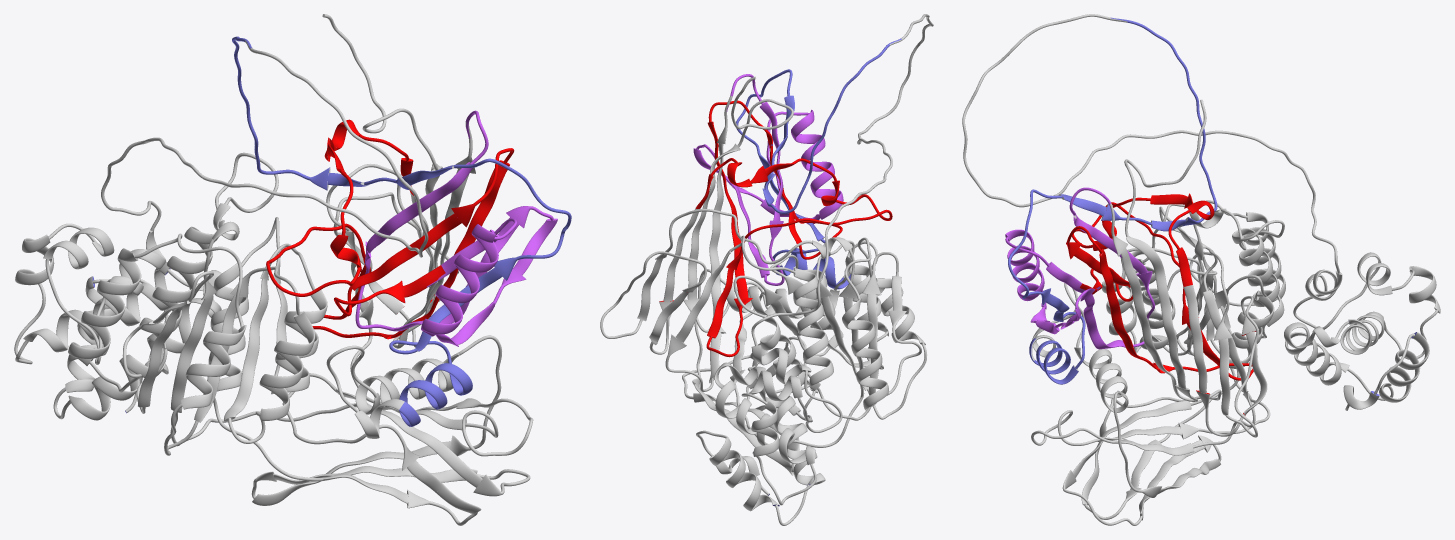
The model's file is protein63D.gltf.
The picture shows the model from 3 angles, left to right: view 1: azimuth 30°, elevation 25°; view 2: azimuth 150°, elevation 25°; view 3: azimuth 270°, elevation 25°; orthographic projection. The views are drawn at different scales.
Parts seen in each view (by area): view 1: subnode_13, subnode_2, subnode_3, subnode_18, subnode_19, subnode_24, subnode_12, subnode_11, subnode_15, subnode_10, subnode_16, subnode_1 (+14 smaller); view 2: subnode_11, subnode_10, subnode_24, subnode_1, subnode_25, subnode_2, subnode_7, subnode_23, subnode_4, subnode_6, subnode_22, subnode_0 (+15 smaller); view 3: subnode_6, subnode_1, subnode_0, subnode_7, subnode_2, subnode_25, subnode_24, subnode_8, subnode_20, subnode_23, subnode_5, subnode_4 (+14 smaller).
Boxes of the visible parts, x1=… form: subnode_13: x1=221, y1=266, x2=314, y2=443; subnode_2: x1=414, y1=206, x2=557, y2=346; subnode_3: x1=334, y1=148, x2=517, y2=316; subnode_18: x1=326, y1=335, x2=501, y2=438; subnode_19: x1=389, y1=165, x2=571, y2=426; subnode_24: x1=16, y1=261, x2=221, y2=376; subnode_12: x1=156, y1=233, x2=246, y2=455; subnode_11: x1=68, y1=246, x2=213, y2=392; subnode_15: x1=208, y1=276, x2=481, y2=525; subnode_10: x1=136, y1=156, x2=239, y2=413; subnode_16: x1=282, y1=373, x2=530, y2=496; subnode_1: x1=355, y1=110, x2=488, y2=331; subnode_11: x1=842, y1=252, x2=921, y2=410; subnode_10: x1=742, y1=246, x2=878, y2=420; subnode_24: x1=714, y1=362, x2=816, y2=479; subnode_1: x1=709, y1=74, x2=784, y2=301; subnode_25: x1=696, y1=423, x2=825, y2=525; subnode_2: x1=693, y1=134, x2=843, y2=263; subnode_7: x1=624, y1=209, x2=742, y2=391; subnode_23: x1=741, y1=370, x2=841, y2=505; subnode_4: x1=706, y1=104, x2=803, y2=357; subnode_6: x1=600, y1=208, x2=706, y2=354; subnode_22: x1=751, y1=179, x2=885, y2=418; subnode_0: x1=683, y1=77, x2=793, y2=332; subnode_6: x1=1183, y1=285, x2=1267, y2=437; subnode_1: x1=1069, y1=187, x2=1175, y2=380; subnode_0: x1=1124, y1=99, x2=1206, y2=401; subnode_7: x1=1192, y1=249, x2=1255, y2=448; subnode_2: x1=1007, y1=245, x2=1123, y2=349; subnode_25: x1=1294, y1=332, x2=1429, y2=402; subnode_24: x1=1284, y1=311, x2=1387, y2=365; subnode_8: x1=1031, y1=410, x2=1245, y2=455; subnode_20: x1=1030, y1=17, x2=1217, y2=231; subnode_23: x1=1294, y1=252, x2=1440, y2=359; subnode_5: x1=1072, y1=193, x2=1214, y2=286; subnode_4: x1=1090, y1=236, x2=1253, y2=380.
Bounding box in the file's own units: 63.03 × 85.3 × 86.79.
